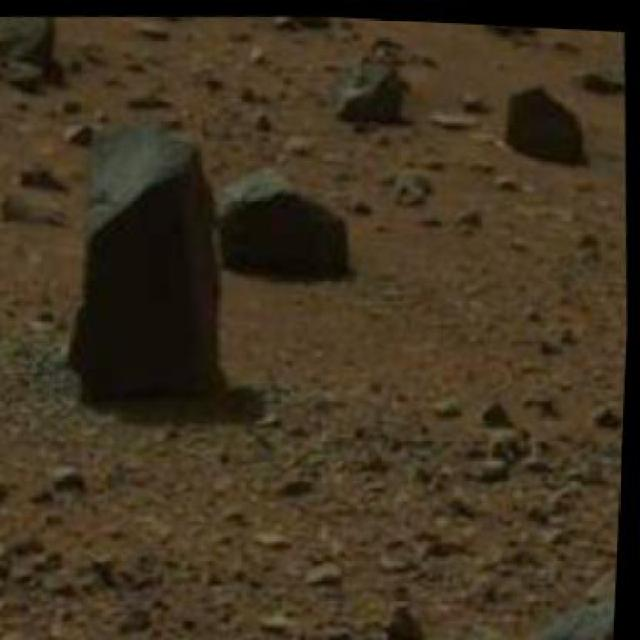rock: (46, 107, 239, 418), (213, 162, 362, 292), (378, 564, 620, 638), (497, 77, 598, 171), (326, 45, 412, 129), (0, 12, 72, 109), (257, 11, 338, 38), (612, 26, 626, 94)
